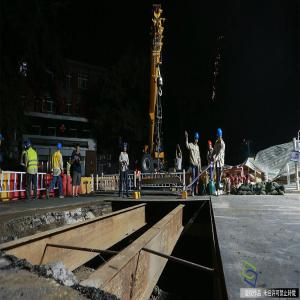blue: (217, 128, 223, 142), (195, 133, 200, 145), (27, 142, 33, 152), (58, 143, 63, 153), (124, 143, 128, 153), (70, 158, 73, 165)
none: (77, 144, 81, 153), (179, 152, 182, 159)
red: (209, 141, 213, 151)
